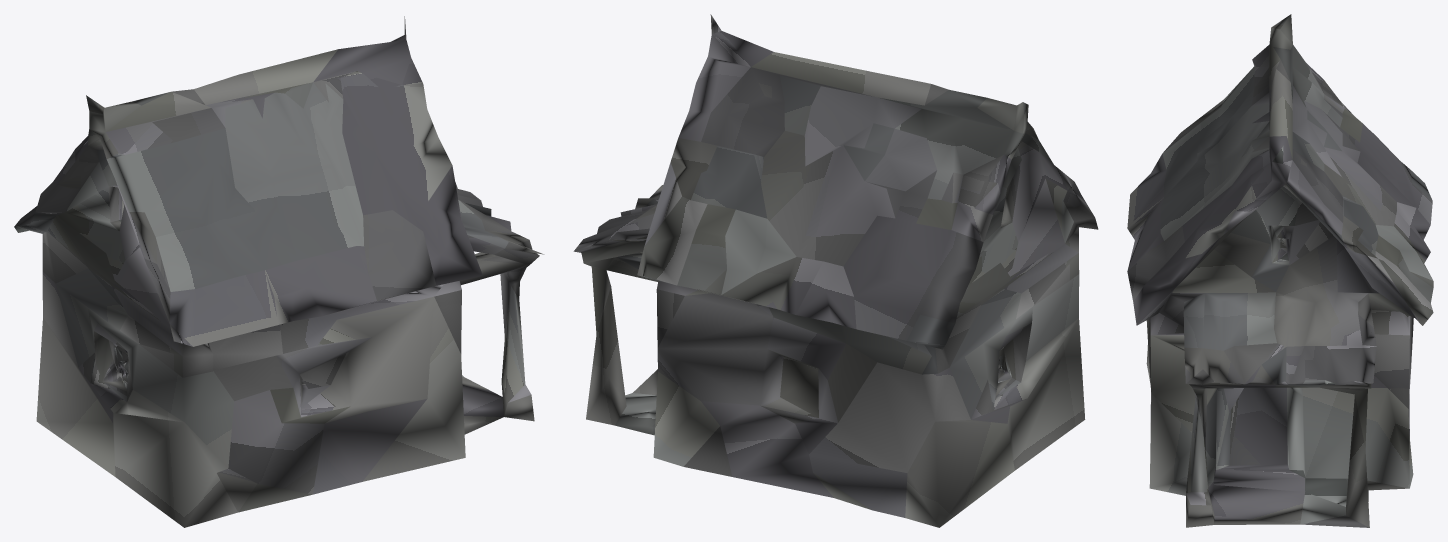
Rendered from house_cottage_1_lo.glb.
The picture shows the model from 3 angles, left to right: view 1: azimuth 30°, elevation 25°; view 2: azimuth 150°, elevation 25°; view 3: azimuth 270°, elevation 25°; orthographic projection. The views are drawn at different scales.
Visible parts, largest first — view 1: tripo_node_c624b13c-2225-4914-8717-684f2fc18b02; view 2: tripo_node_c624b13c-2225-4914-8717-684f2fc18b02; view 3: tripo_node_c624b13c-2225-4914-8717-684f2fc18b02.
Boxes of the visible parts, x1,y1,x2,y2 form: tripo_node_c624b13c-2225-4914-8717-684f2fc18b02: (14,16,544,527); tripo_node_c624b13c-2225-4914-8717-684f2fc18b02: (573,14,1098,527); tripo_node_c624b13c-2225-4914-8717-684f2fc18b02: (1127,14,1433,527).
Size of the model in its own units: 0.9774 by 0.8949 by 0.7123.
1 material, 1 textured.
